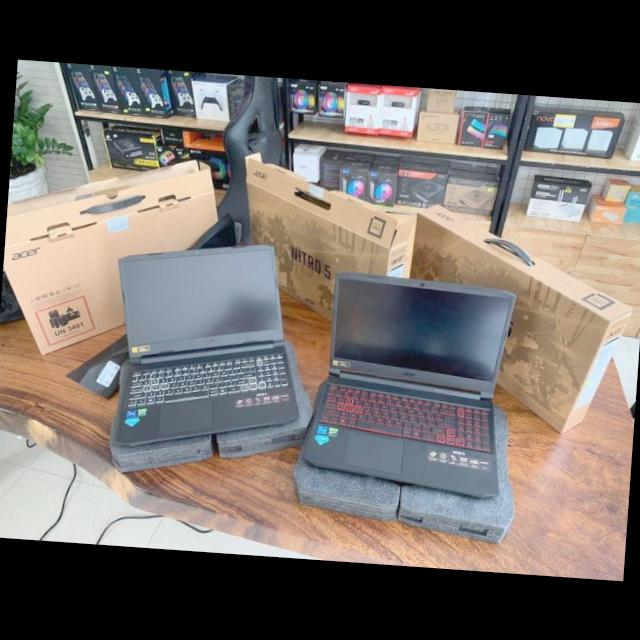laptop: (302, 265, 522, 506), (88, 231, 304, 464)
